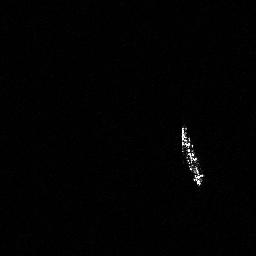ship: (177, 122, 207, 190)
